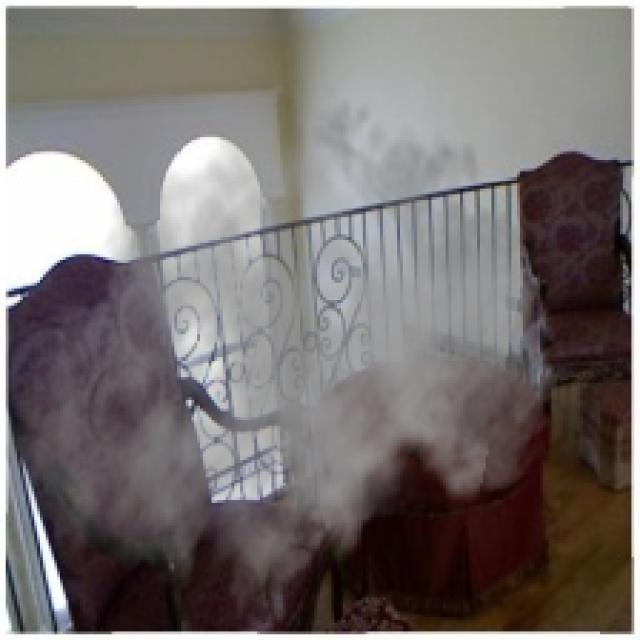smoke: (11, 77, 566, 637)
